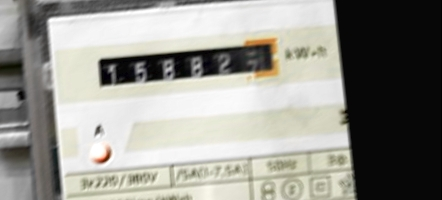1: (104, 61, 120, 84)
2: (214, 51, 233, 76)
5: (132, 58, 148, 84)
7: (245, 55, 259, 73)
8: (187, 54, 204, 79), (160, 57, 175, 81)
screen: (87, 29, 289, 105)
